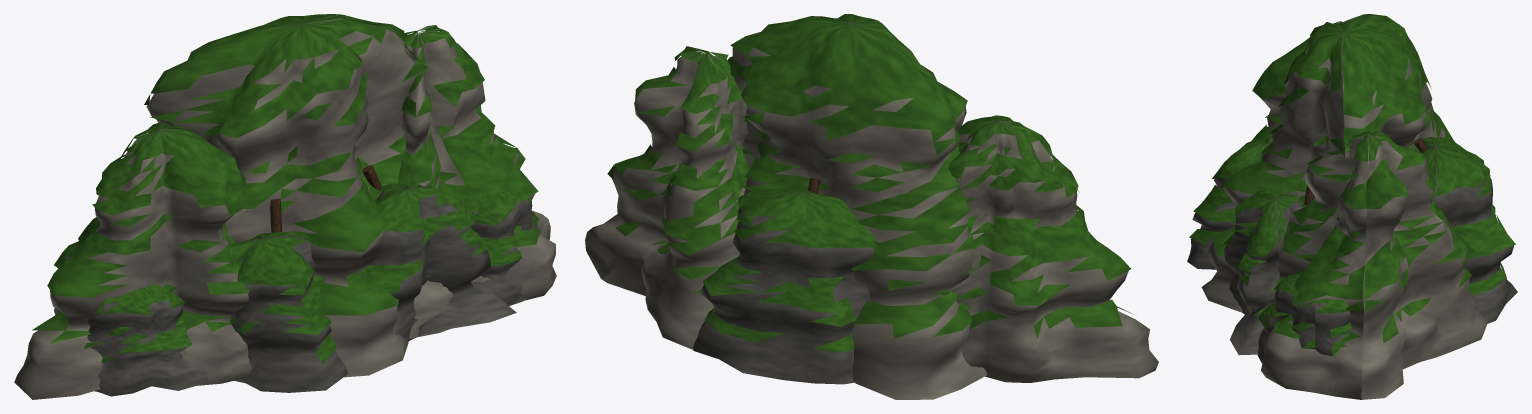
Rendered from env_mossy_forest_cliff_modular.glb.
3 renders of one model, left to right at view 1: azimuth 30°, elevation 25°; view 2: azimuth 150°, elevation 25°; view 3: azimuth 270°, elevation 25°, orthographic. The views are drawn at different scales.
Visible parts, largest first — view 1: moss_terraces, crag_main_buttress, dark_basal_slate, gnarled_crevice_roots; view 2: crag_main_buttress, moss_terraces, dark_basal_slate; view 3: moss_terraces, crag_main_buttress, dark_basal_slate.
Boxes of the visible parts, <box> form: moss_terraces: <box>32,14,540,363</box>; crag_main_buttress: <box>14,18,556,399</box>; dark_basal_slate: <box>87,185,537,396</box>; gnarled_crevice_roots: <box>270,165,381,235</box>; crag_main_buttress: <box>585,18,1158,399</box>; moss_terraces: <box>607,14,1133,352</box>; dark_basal_slate: <box>693,192,874,384</box>; moss_terraces: <box>1189,14,1515,356</box>; crag_main_buttress: <box>1201,24,1488,399</box>; dark_basal_slate: <box>1187,140,1517,393</box>.
Bounding box in the file's own units: 14.85 × 7.74 × 8.63.
Materials: 4 (4 with a texture image).
